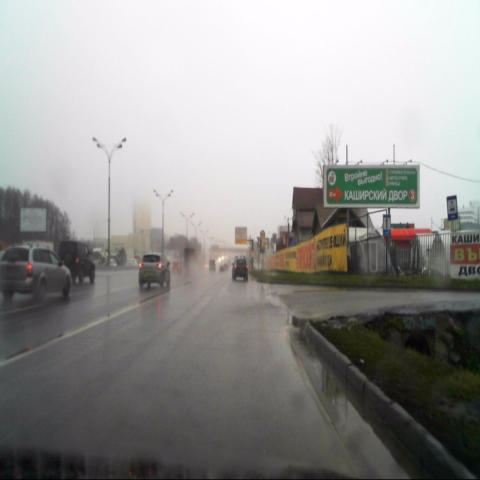7_5: (446, 195, 458, 221)
